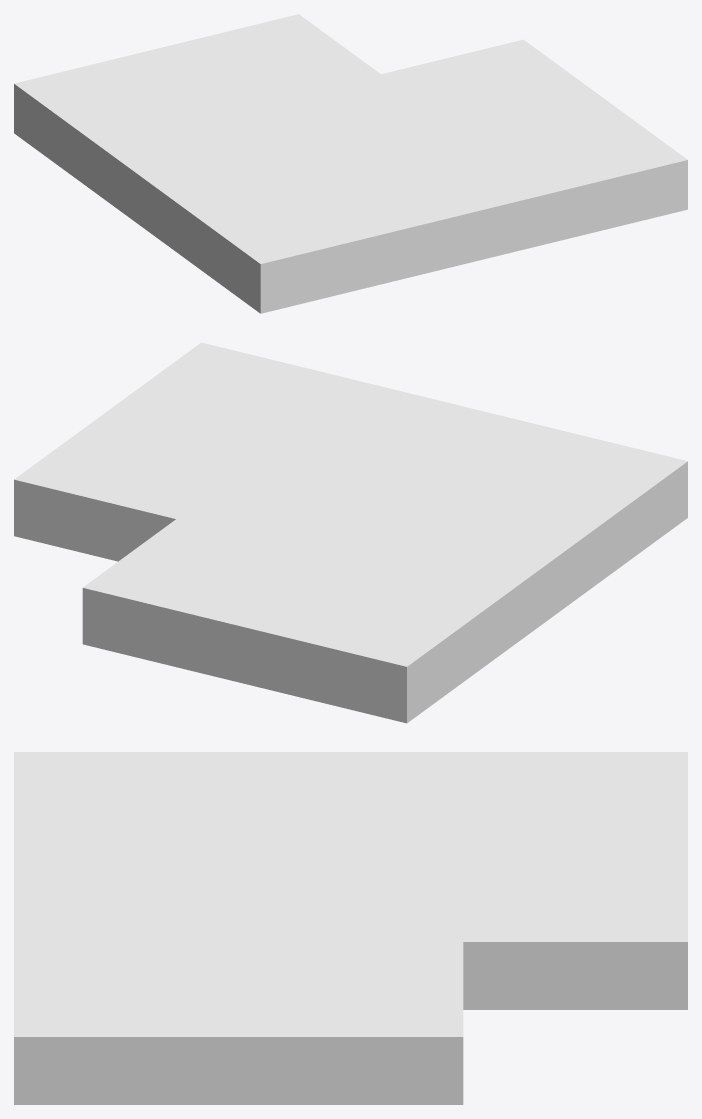
File: cloud1.gltf
3 views of the same model, one above another, from view 1: azimuth 30°, elevation 25°; view 2: azimuth 150°, elevation 25°; view 3: azimuth 270°, elevation 25° (orthographic). The views are drawn at different scales.
Visible parts, largest first — view 1: cloud1; view 2: cloud1; view 3: cloud1.
Boxes of the visible parts, box(x1,y1,x2,y2) form: cloud1: box(14, 14, 687, 313); cloud1: box(14, 342, 687, 723); cloud1: box(14, 752, 687, 1104).
Size of the model in its own units: 36 by 4 by 36.
1 material, 1 textured.
